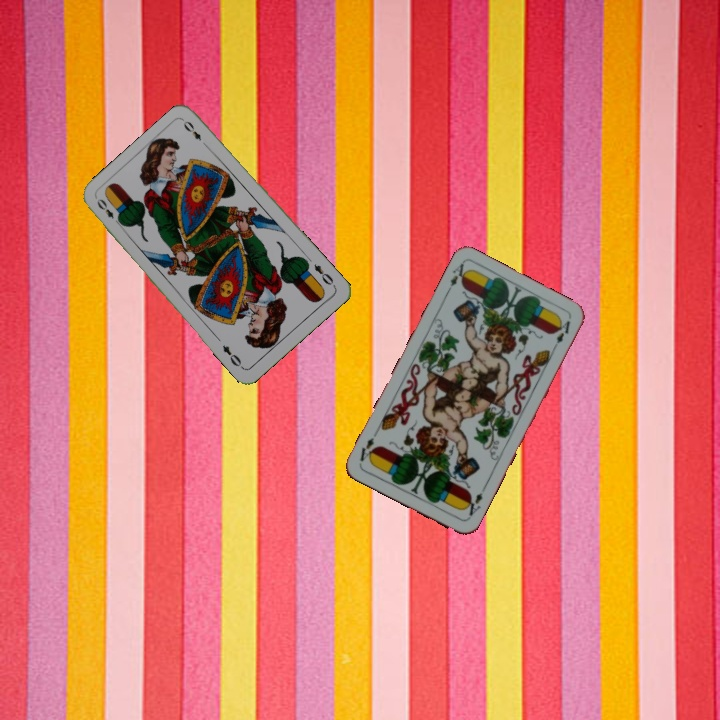EA: (442, 259, 471, 297), (460, 483, 488, 521)
EO: (92, 194, 124, 228), (310, 260, 338, 289)
